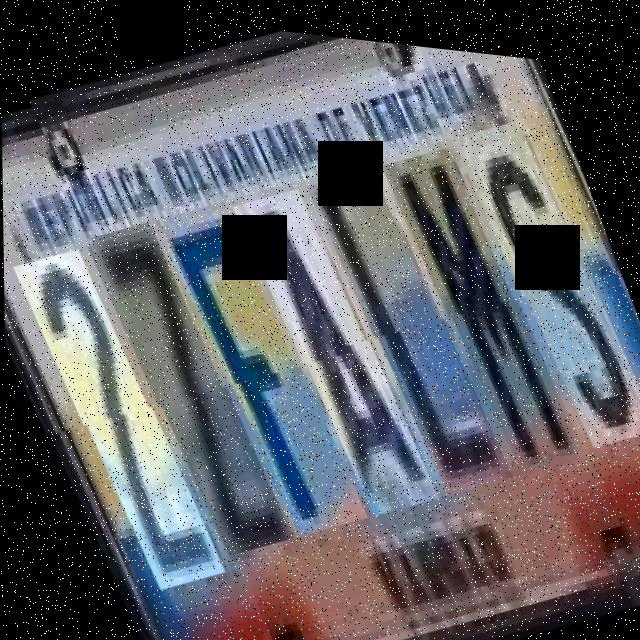2: (11, 229, 216, 592)
A: (234, 170, 433, 520)
F: (155, 184, 361, 543)
L: (308, 148, 507, 498)
M: (382, 126, 581, 476)
S: (457, 104, 640, 453)
Z: (84, 207, 287, 564)
